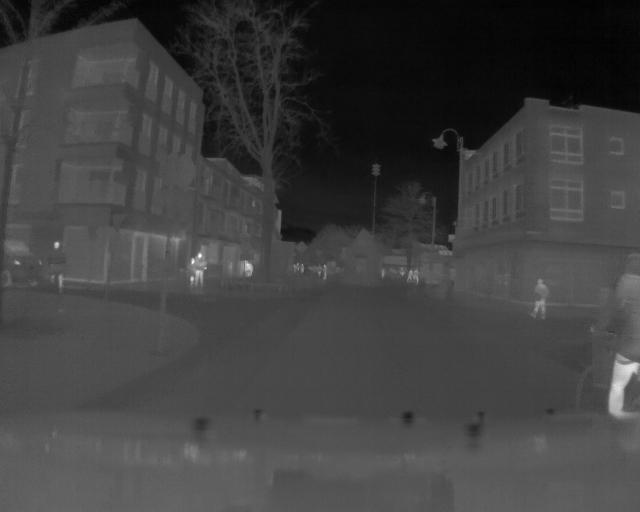car: (1, 235, 41, 288)
person: (611, 247, 640, 415), (50, 239, 67, 305), (530, 275, 550, 322), (195, 247, 209, 290), (187, 255, 195, 286)
